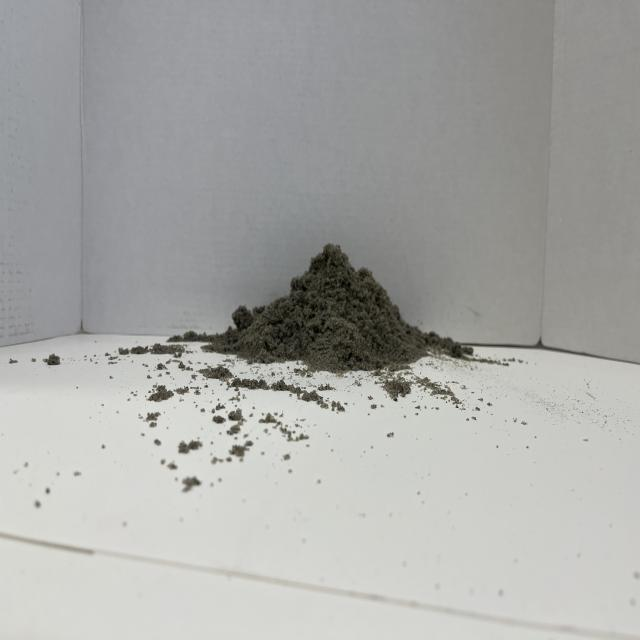sand: (219, 228, 453, 388)
